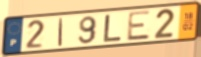2: (153, 7, 177, 41), (25, 19, 47, 50)
9: (78, 14, 98, 45)
E: (126, 9, 153, 43)
I: (57, 17, 64, 47)
L: (102, 13, 123, 43)
